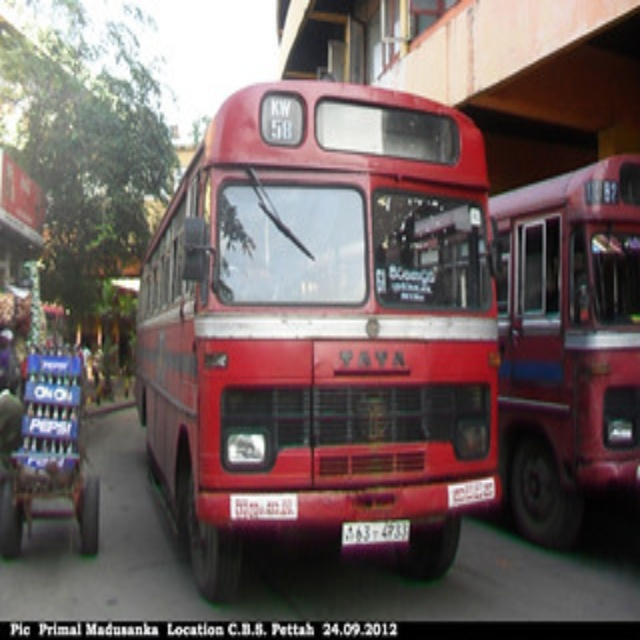Bus: (132, 80, 502, 597), (484, 149, 640, 549)
